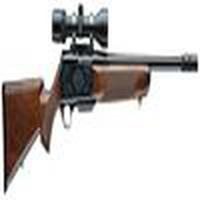gun: (1, 48, 199, 169)
